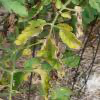Tomato Septoria leaf spot: (18, 59, 52, 99), (11, 18, 49, 47), (36, 38, 64, 69), (55, 22, 80, 50)
